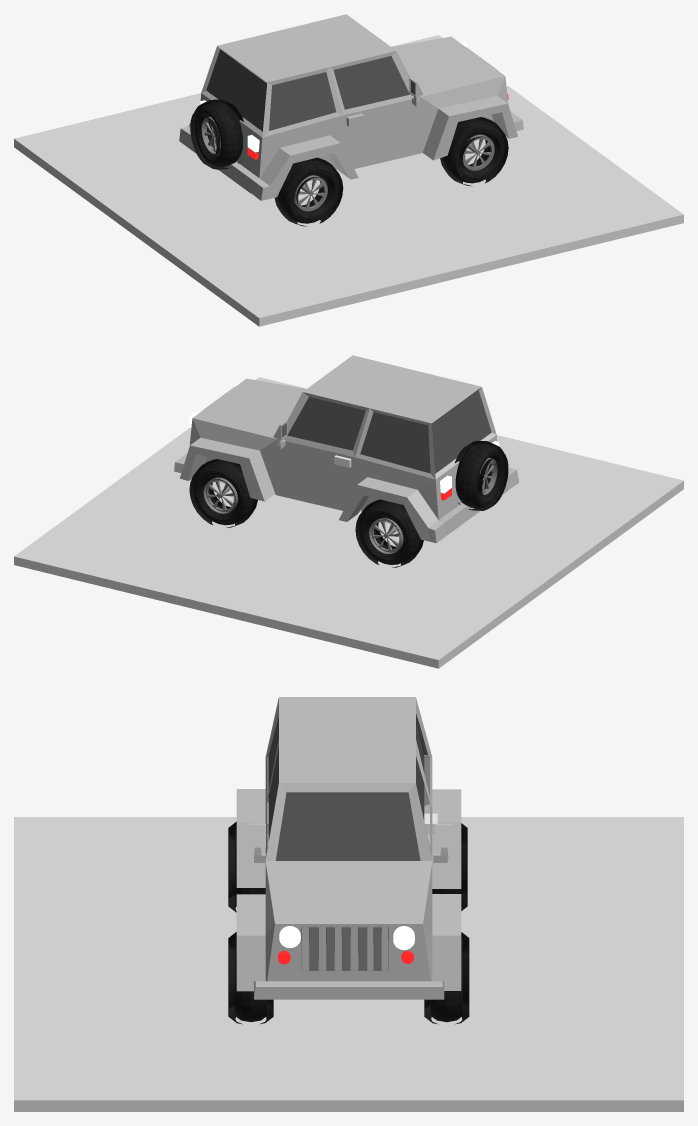
3 views of the same model, one above another, from view 1: azimuth 30°, elevation 25°; view 2: azimuth 150°, elevation 25°; view 3: azimuth 270°, elevation 25° (orthographic). The views are drawn at different scales.
Visible parts, largest first — view 1: Cube_0, Cubo_4, Cubo.014_34, Torus.001_7, Torus_6, Torus.002_9, Cubo.024_46, Cilindro_18, Cilindro.003_21; view 2: Cube_0, Cubo_4, Cubo.018_35, Torus.001_7, Torus.004_11, Torus.003_10, Cubo.024_46, Cilindro.001_19, Cilindro.002_20; view 3: Cube_0, Cubo_4, Cubo.019_36, Cubo.001_8, Torus.004_11, Torus.002_9, Torus_6, Cubo.014_34, Torus.003_10.
Boxes of the visible parts, x1,y1,x2,y2 form: Cube_0: [14, 35, 683, 326]; Cubo_4: [179, 14, 523, 200]; Cubo.014_34: [269, 56, 409, 130]; Torus.001_7: [190, 99, 243, 169]; Torus_6: [274, 157, 343, 226]; Torus.002_9: [440, 117, 508, 186]; Cubo.024_46: [206, 49, 266, 131]; Cilindro_18: [294, 175, 327, 211]; Cilindro.003_21: [463, 134, 494, 170]; Cube_0: [14, 377, 683, 668]; Cubo_4: [174, 355, 518, 543]; Cubo.018_35: [291, 397, 430, 473]; Torus.001_7: [455, 440, 508, 510]; Torus.004_11: [189, 459, 257, 527]; Torus.003_10: [355, 499, 423, 567]; Cubo.024_46: [432, 391, 491, 473]; Cilindro.001_19: [369, 518, 403, 553]; Cilindro.002_20: [203, 477, 237, 513]; Cube_0: [14, 817, 683, 1111]; Cubo_4: [236, 697, 461, 999]; Cubo.019_36: [275, 792, 420, 860]; Cubo.001_8: [301, 926, 388, 970]; Torus.004_11: [424, 932, 469, 1024]; Torus.002_9: [228, 932, 273, 1024]; Torus_6: [228, 821, 265, 912]; Cubo.014_34: [268, 716, 278, 840]; Torus.003_10: [432, 823, 467, 910].
Bounding box in the file's own units: 9.85 × 3.27 × 9.85.
